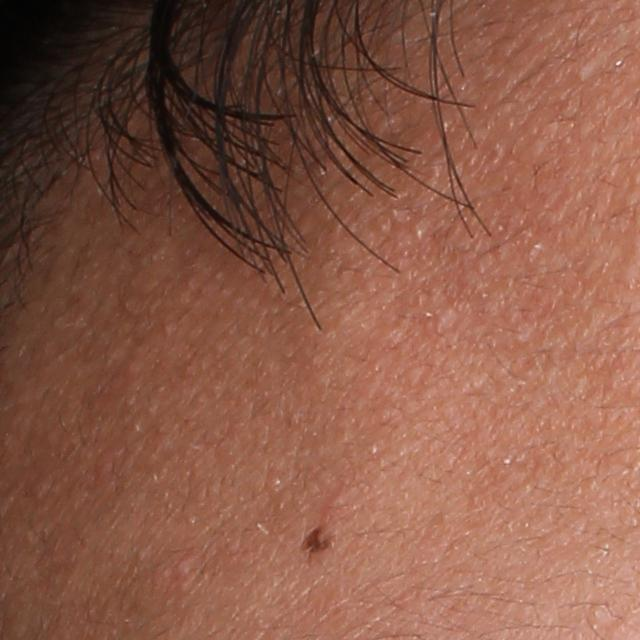nevus: (298, 523, 333, 557)
